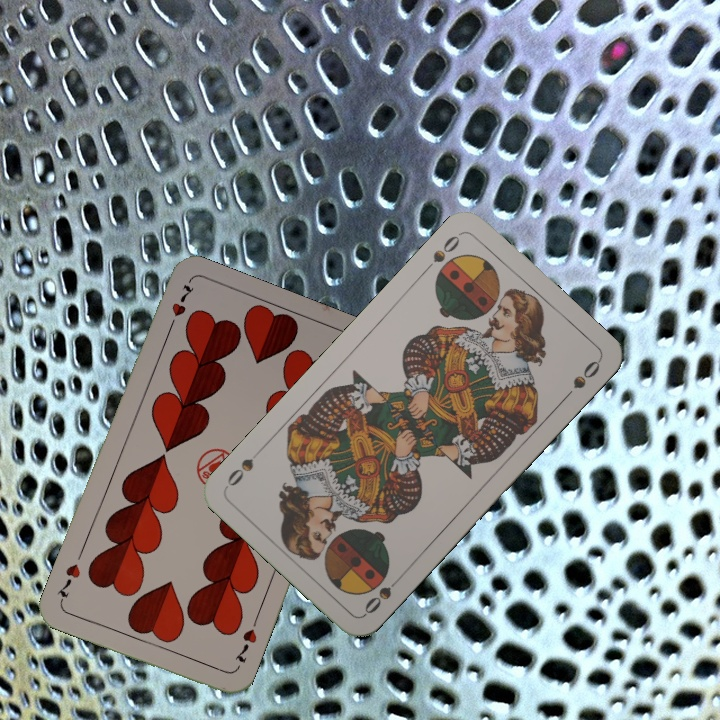H7: (164, 280, 197, 335), (230, 625, 260, 665)
SO: (360, 570, 406, 617), (419, 230, 464, 276)
